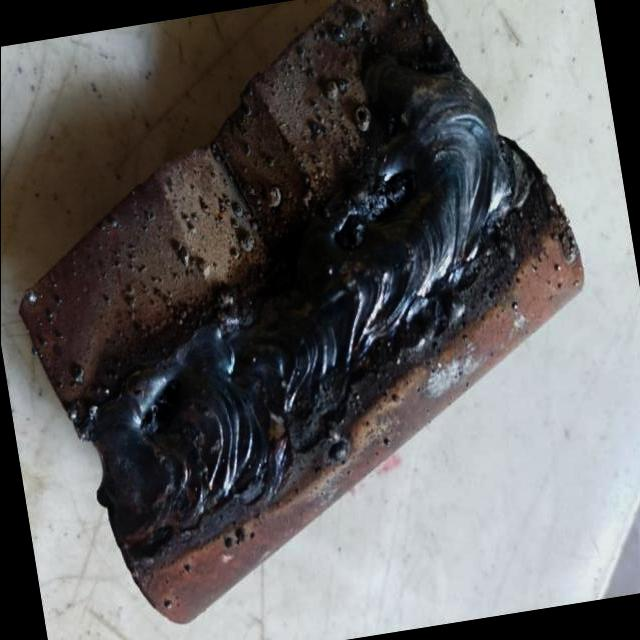defect: (337, 168, 419, 252), (136, 369, 183, 441)
